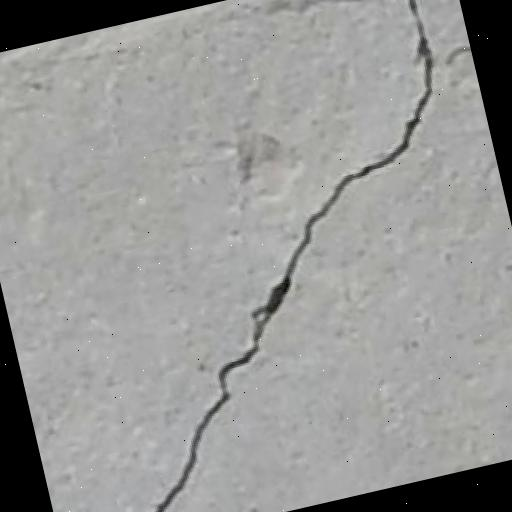spalling: (125, 0, 450, 512)
